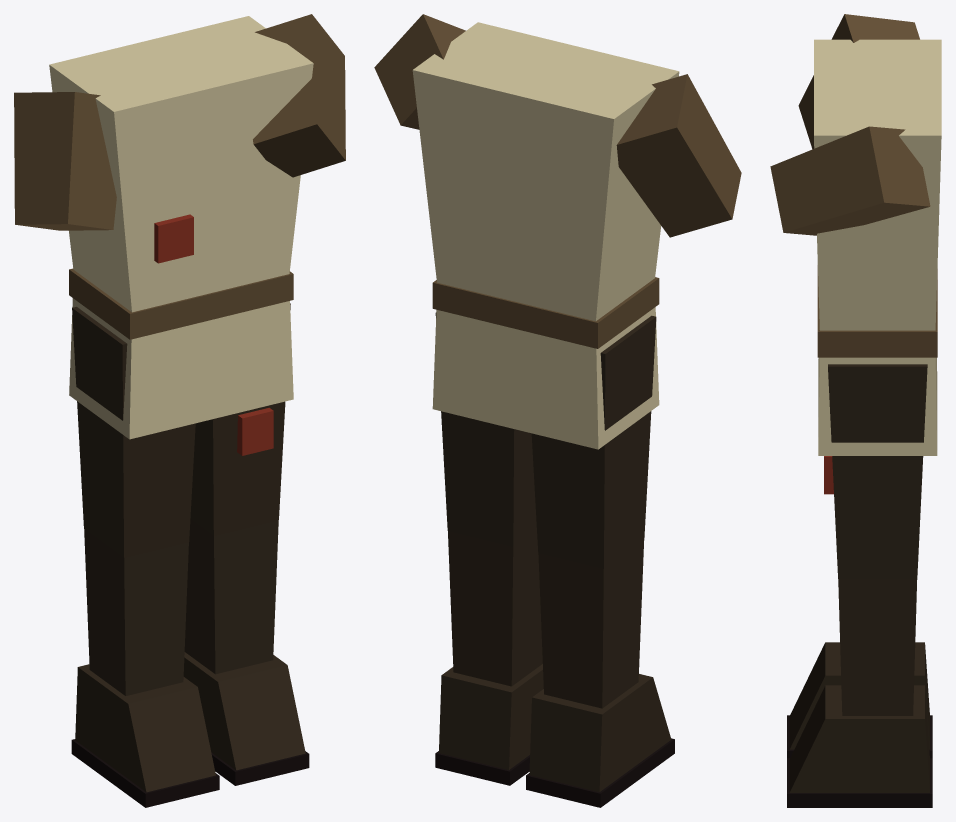
Rendered from gear_body_patched_tunic.glb.
3 views of the same model, side by side, from view 1: azimuth 30°, elevation 25°; view 2: azimuth 150°, elevation 25°; view 3: azimuth 270°, elevation 25° (orthographic). The views are drawn at different scales.
Parts seen in each view (by area): view 1: torso, leg_r_lower, leg_l_lower, leg_r, arm_r, leg_l, arm_l; view 2: torso, leg_r_lower, leg_l_lower, leg_r, arm_r, leg_l, arm_l; view 3: torso, leg_l_lower, leg_l, arm_l, leg_r_lower, arm_r.
Boxes of the visible parts, x1=… form: torso: x1=49, y1=16, x2=313, y2=439; leg_r_lower: x1=71, y1=528, x2=219, y2=807; leg_l_lower: x1=183, y1=519, x2=309, y2=785; leg_r: x1=72, y1=306, x2=195, y2=557; arm_r: x1=14, y1=92, x2=116, y2=230; leg_l: x1=190, y1=303, x2=290, y2=535; arm_l: x1=253, y1=14, x2=345, y2=177; torso: x1=412, y1=22, x2=679, y2=449; leg_r_lower: x1=526, y1=539, x2=674, y2=807; leg_l_lower: x1=435, y1=530, x2=543, y2=785; leg_r: x1=531, y1=315, x2=656, y2=568; arm_r: x1=616, y1=74, x2=741, y2=237; leg_l: x1=435, y1=312, x2=536, y2=546; arm_l: x1=374, y1=14, x2=465, y2=129; torso: x1=814, y1=39, x2=941, y2=455; leg_l_lower: x1=787, y1=579, x2=932, y2=807; leg_l: x1=824, y1=364, x2=927, y2=578; arm_l: x1=770, y1=126, x2=930, y2=235; leg_r_lower: x1=787, y1=642, x2=932, y2=758; arm_r: x1=798, y1=14, x2=919, y2=149.
Size of the model in its own units: 0.7632 by 1.52 by 0.335.
